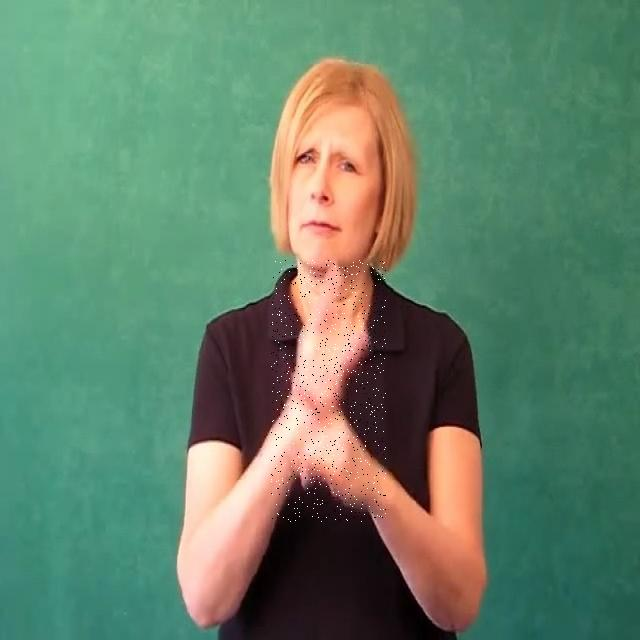alcohol: (271, 260, 386, 522)
